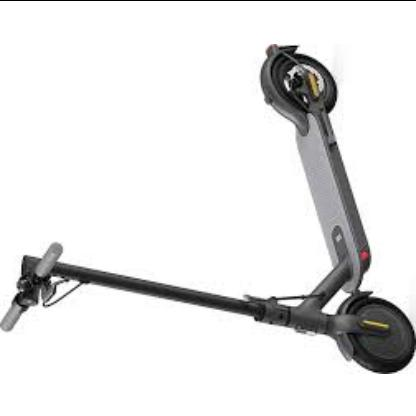bike: (1, 43, 416, 375)
